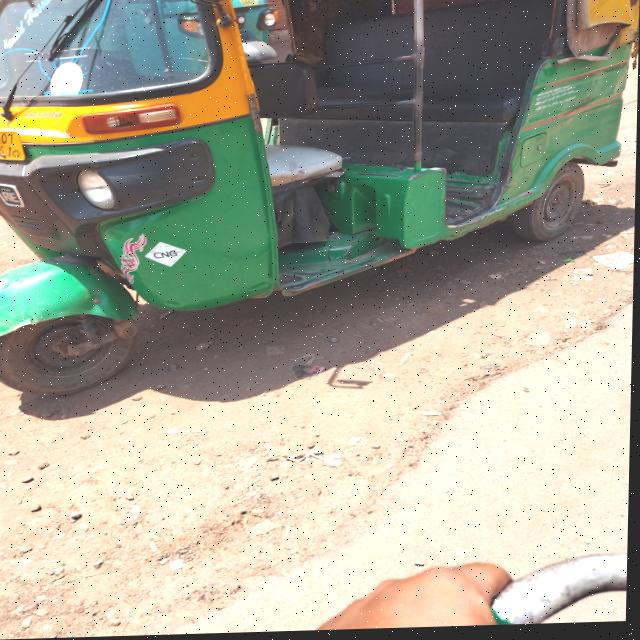plate: (0, 128, 29, 161)
